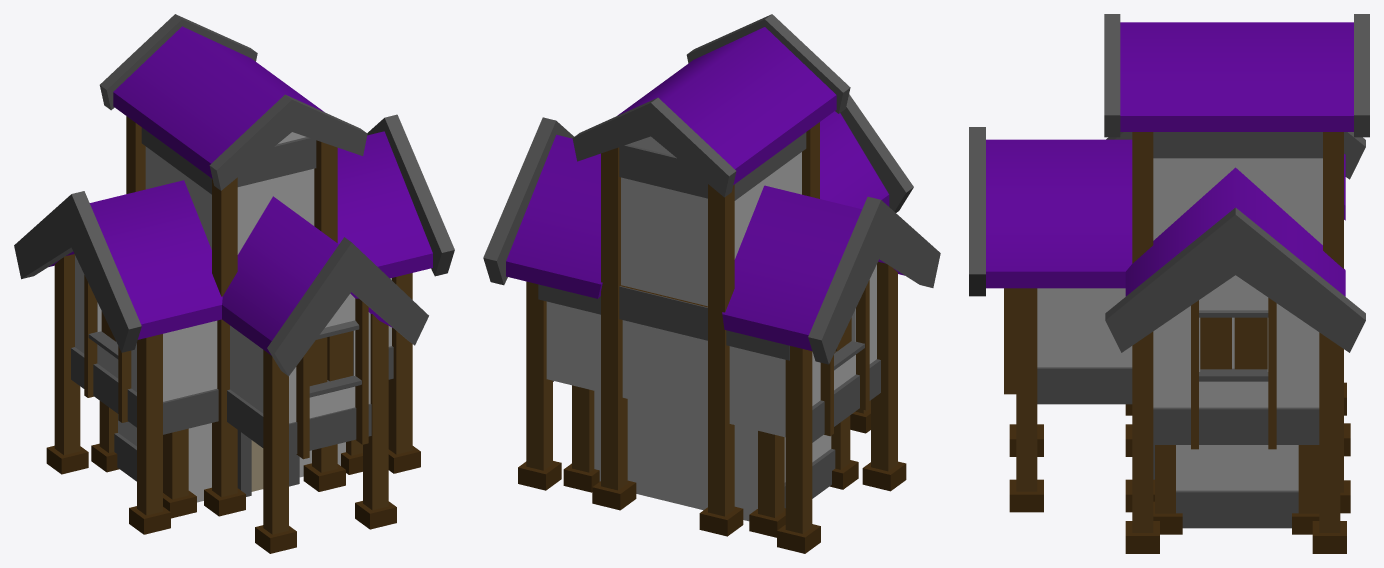
Rendered from Mesh_Royal_Hos.fbx.
The picture shows the model from 3 angles, left to right: view 1: azimuth 30°, elevation 25°; view 2: azimuth 150°, elevation 25°; view 3: azimuth 270°, elevation 25°; orthographic projection. The views are drawn at different scales.
Parts seen in each view (by area): view 1: Royal_Hos; view 2: Royal_Hos; view 3: Royal_Hos.
Boxes of the visible parts, left/top/right/bottom form: Royal_Hos: left=14, top=14, right=454, bottom=553; Royal_Hos: left=483, top=14, right=940, bottom=553; Royal_Hos: left=969, top=14, right=1369, bottom=553.
Bounding box in the file's own units: 979 × 1172 × 918.
